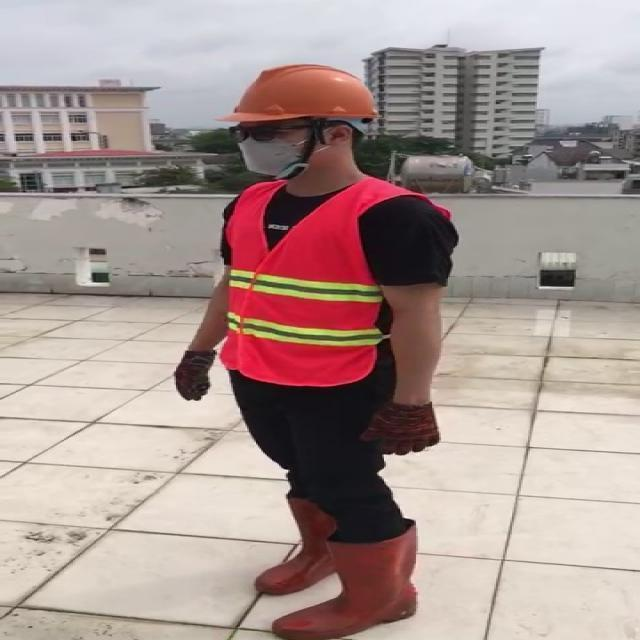helmet: (227, 60, 386, 124)
safety_vest: (220, 182, 392, 386)
